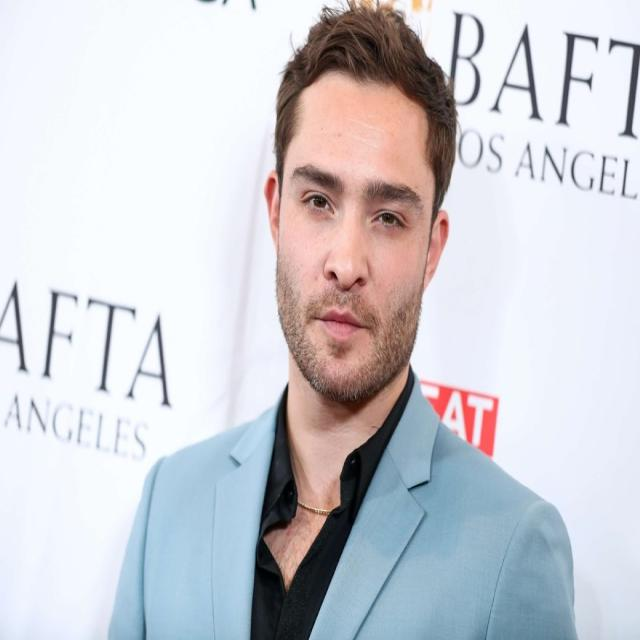mobile_phonerotation: (105, 1, 580, 637)
